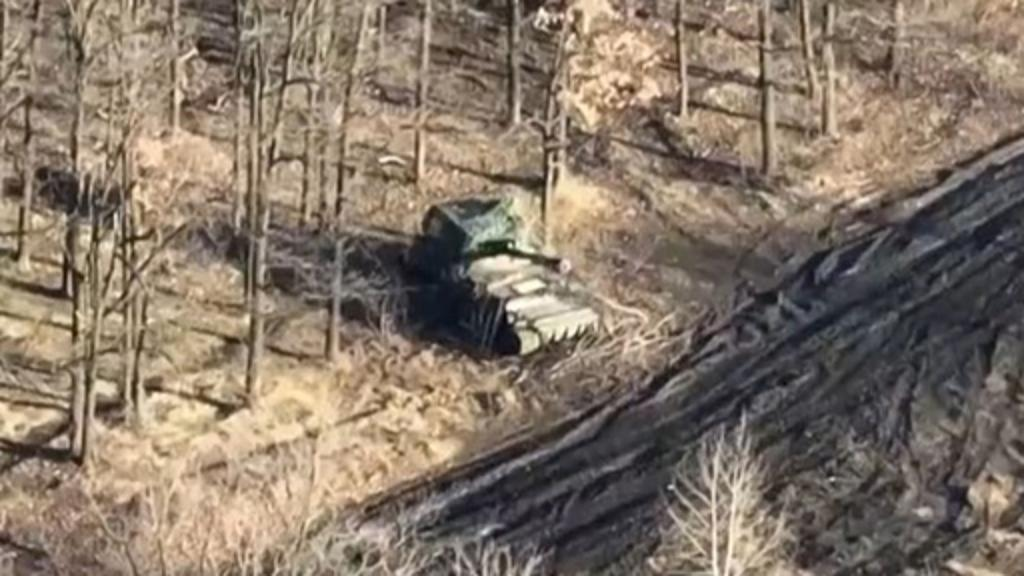ART: (418, 194, 600, 354)
